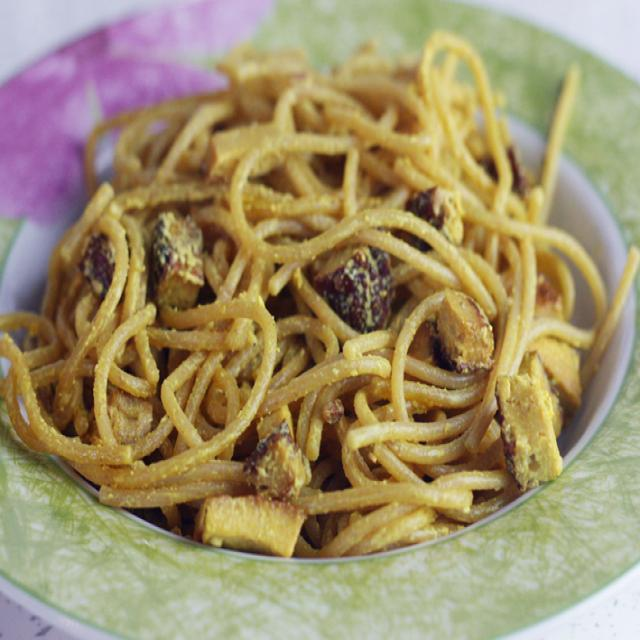Pasta with carbonara sauce: (31, 53, 613, 579)
